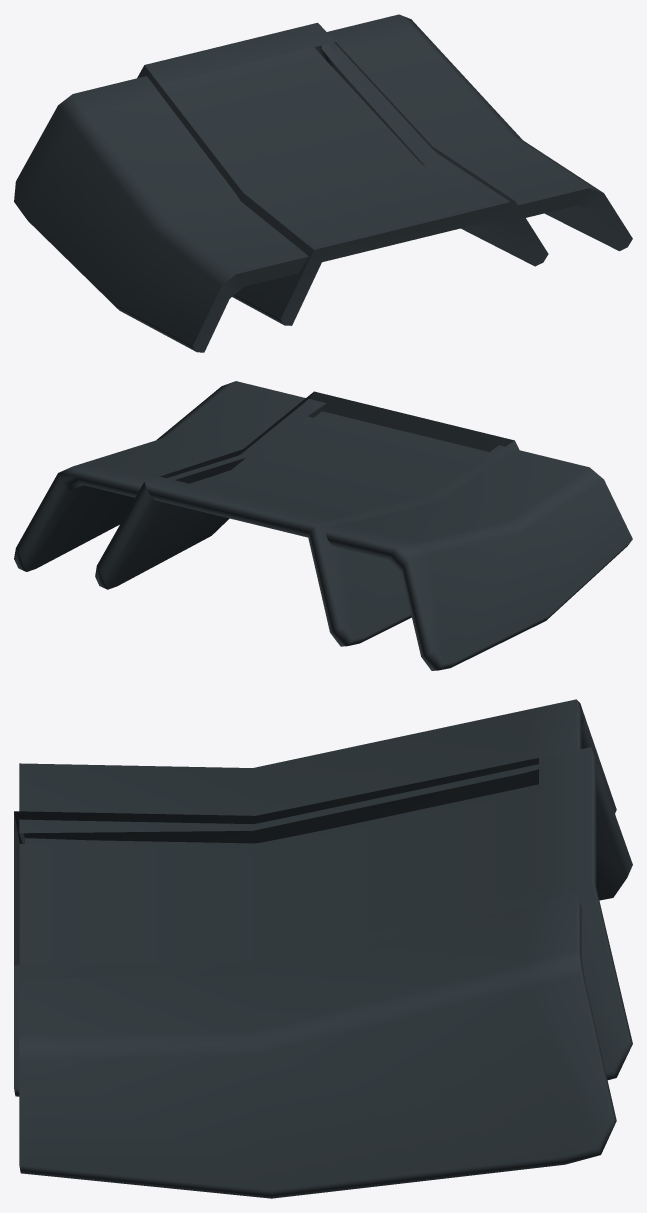
The model's file is Car_09_RearBumper_Simple.fbx.
3 views of the same model, one above another, from view 1: azimuth 30°, elevation 25°; view 2: azimuth 150°, elevation 25°; view 3: azimuth 270°, elevation 25° (orthographic). The views are drawn at different scales.
Parts seen in each view (by area): view 1: Car_09_RearBumper_Simple; view 2: Car_09_RearBumper_Simple; view 3: Car_09_RearBumper_Simple.
Boxes of the visible parts, x1,y1,x2,y2 form: Car_09_RearBumper_Simple: [14, 14, 632, 352]; Car_09_RearBumper_Simple: [14, 381, 632, 670]; Car_09_RearBumper_Simple: [14, 699, 632, 1198].
Size of the model in its own units: 81.21 by 62.81 by 25.15.
